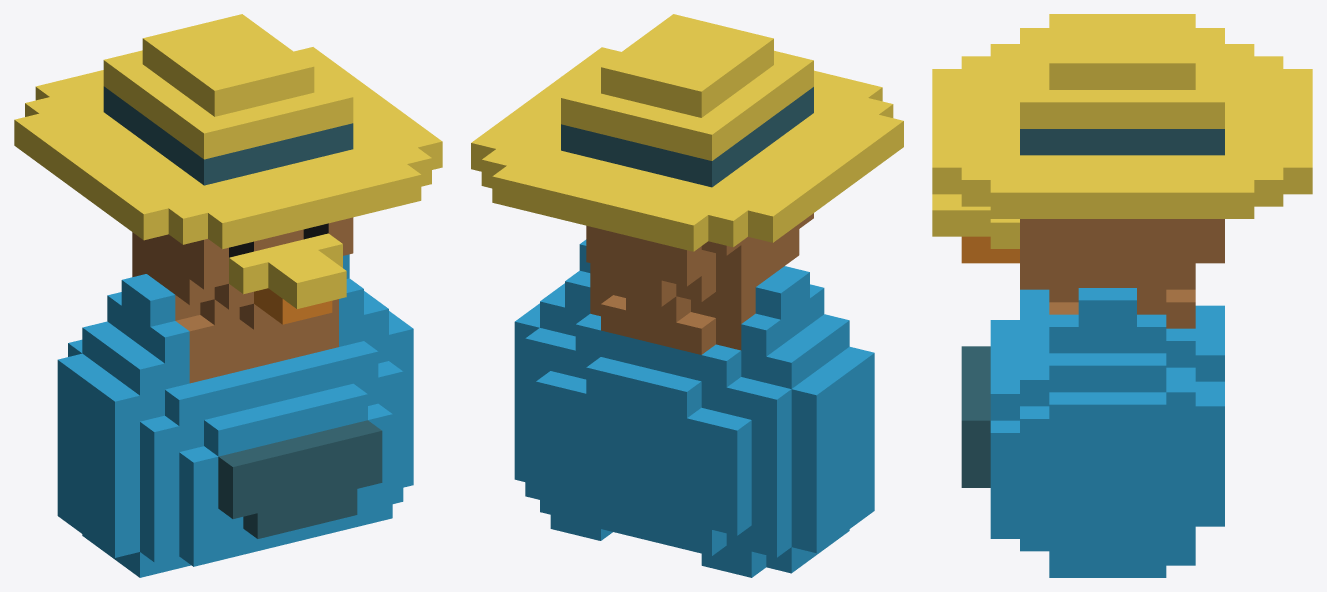
Rendered from PolloYontoz.obj.
3 renders of one model, left to right at view 1: azimuth 30°, elevation 25°; view 2: azimuth 150°, elevation 25°; view 3: azimuth 270°, elevation 25°, orthographic.
Bounding box in the file's own units: 1.2 × 1.8 × 1.3.
1 material, 1 textured.
